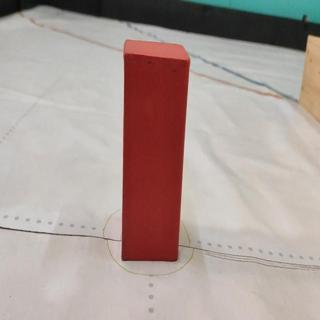redbox: (124, 39, 190, 261)
